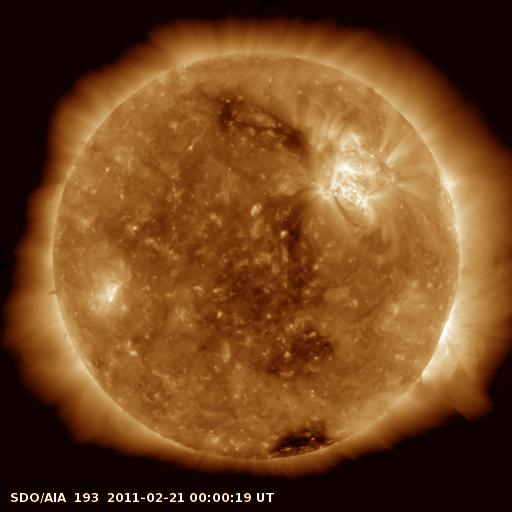coronal_hole: (260, 418, 341, 462)
